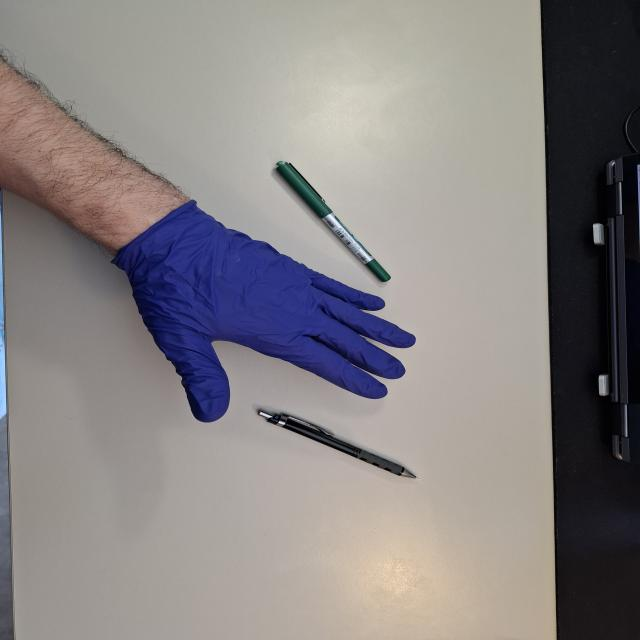glove_on: (113, 198, 419, 425)
